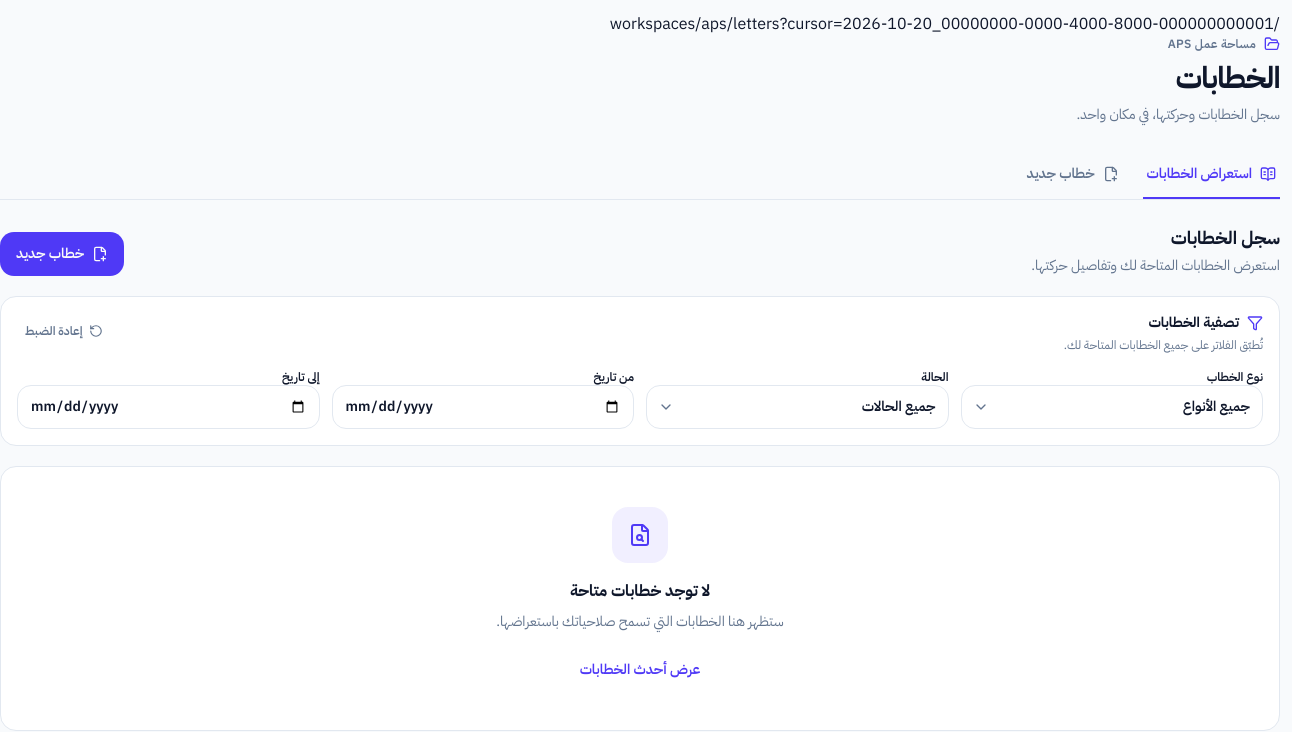
Test: APS letters read-only screens › allows a bookmarked empty page to return to the latest letters
Expected: the heading "لا توجد خطابات متاحة" is shown, [570,579,710,603]
Click the button "عرض أحدث الخطابات" at (640, 670), box [580,650,700,690]
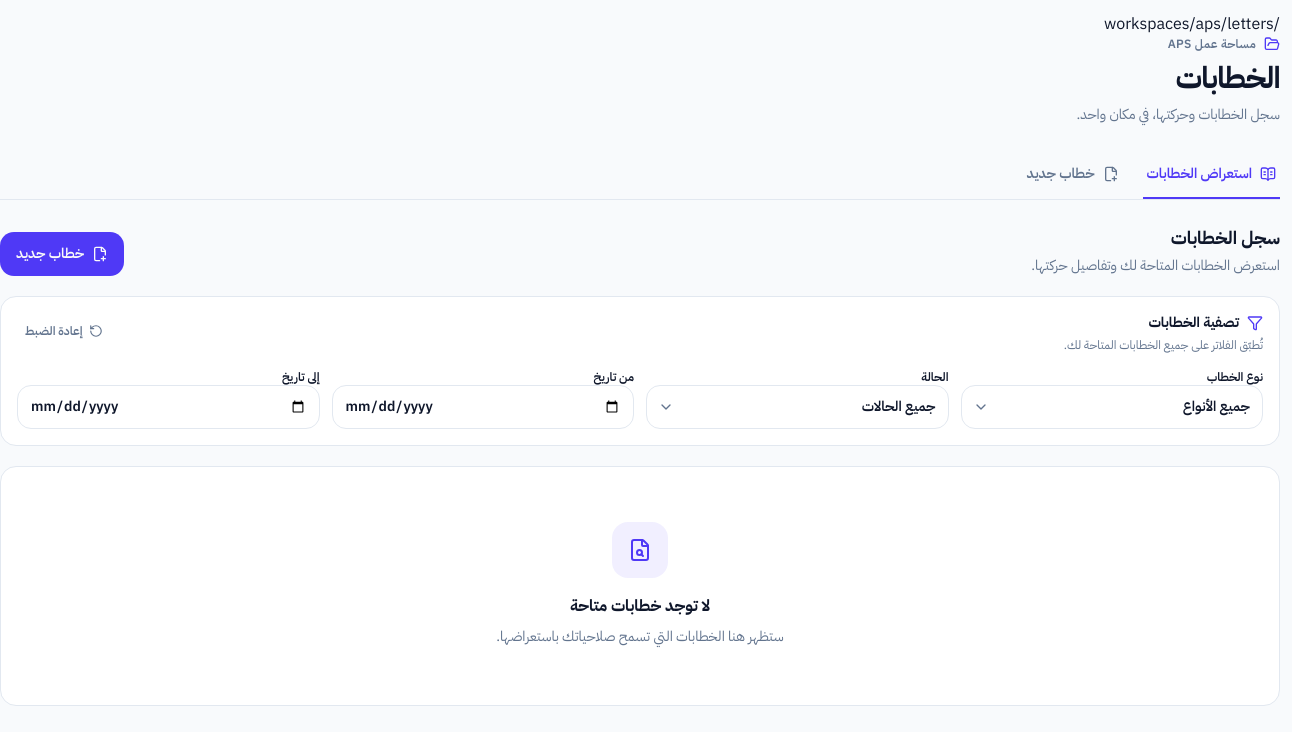
Now the text with test id "current-location" reads "/workspaces/aps/letters", box [1104,12,1280,36]
